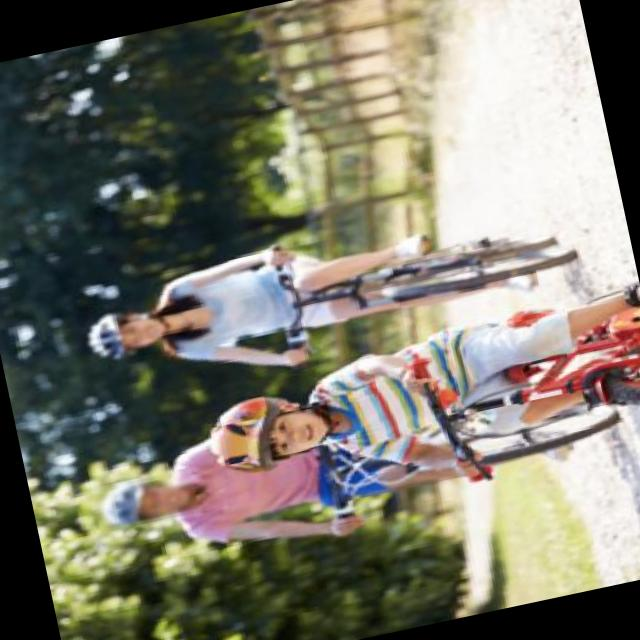With Helmet: (193, 382, 338, 487), (90, 466, 200, 535), (78, 296, 174, 369)
